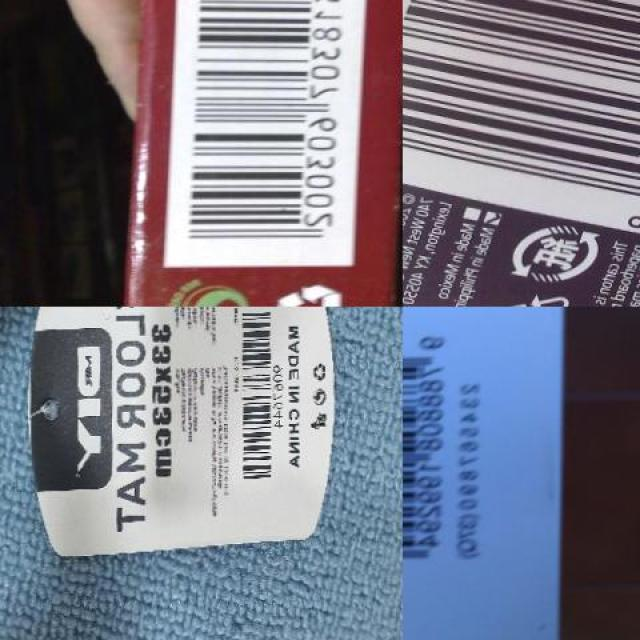Barcode: (402, 0, 640, 241), (178, 0, 354, 261), (402, 325, 454, 575), (230, 307, 286, 496)
